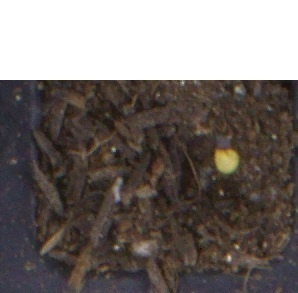chilli seed: (213, 146, 241, 175)
